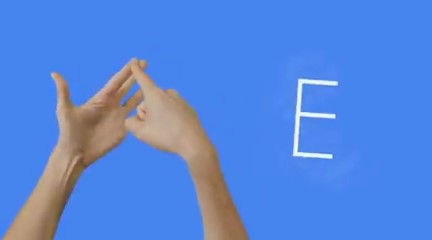E: (47, 55, 214, 164)
